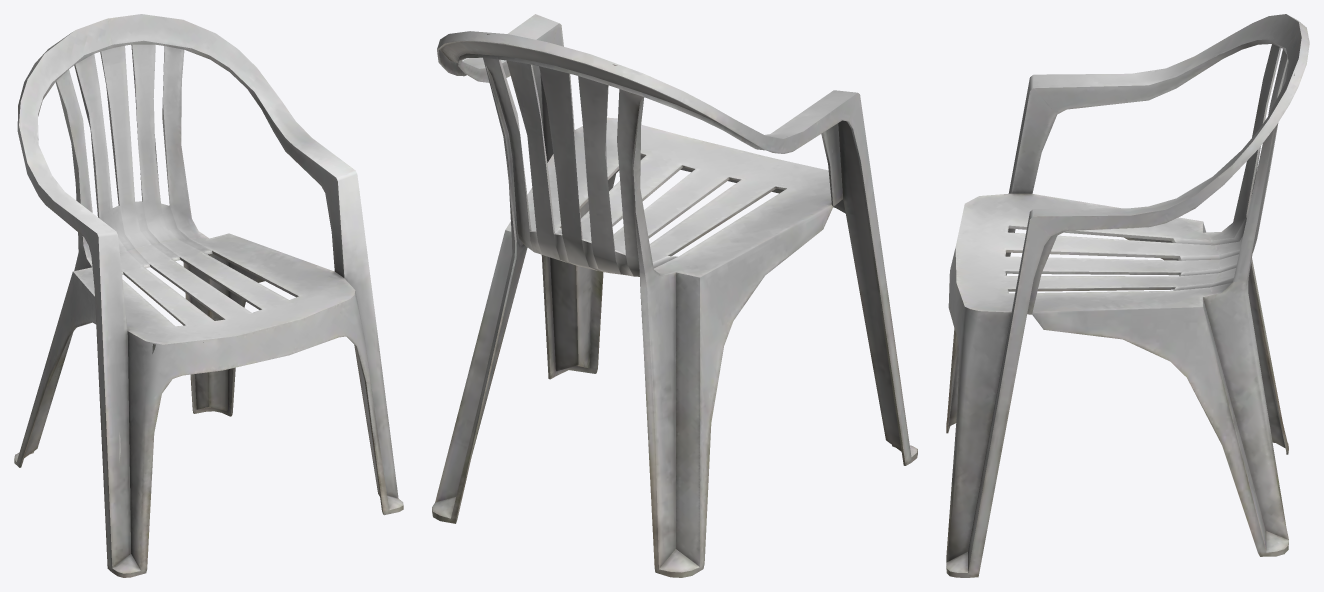
Rendered from plastic_monobloc_chair_01.glb.
3 renders of one model, left to right at view 1: azimuth 30°, elevation 25°; view 2: azimuth 150°, elevation 25°; view 3: azimuth 270°, elevation 25°, orthographic. The views are drawn at different scales.
Visible parts, largest first — view 1: plastic_monobloc_chair_01; view 2: plastic_monobloc_chair_01; view 3: plastic_monobloc_chair_01.
Part boxes in pixels (x1,y1,x2,y2): plastic_monobloc_chair_01: (14,14,403,577); plastic_monobloc_chair_01: (432,14,917,577); plastic_monobloc_chair_01: (946,14,1309,577).
Bounding box in the file's own units: 0.6419 × 0.8798 × 0.6276.
1 material, 1 textured.
